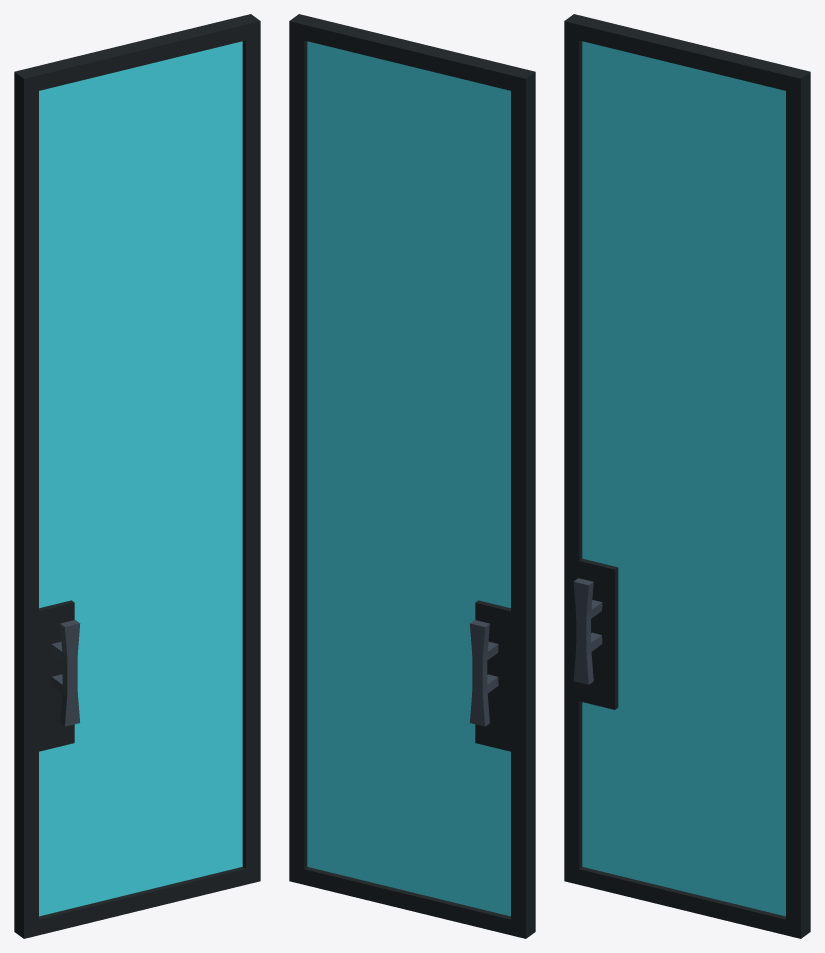
The model's file is SM_Buildings_Office_03_Door_R.fbx.
3 views of the same model, side by side, from view 1: azimuth 30°, elevation 25°; view 2: azimuth 150°, elevation 25°; view 3: azimuth 330°, elevation 25° (orthographic).
Parts seen in each view (by area): view 1: SM_Buildings_Office_03_Door_R; view 2: SM_Buildings_Office_03_Door_R; view 3: SM_Buildings_Office_03_Door_R.
Part boxes in pixels (box(x1,y1,x2,y2)): SM_Buildings_Office_03_Door_R: box(14, 14, 260, 938); SM_Buildings_Office_03_Door_R: box(289, 14, 535, 938); SM_Buildings_Office_03_Door_R: box(564, 14, 810, 938).
Size of the model in its own units: 0.7463 by 2.59 by 0.2255.
